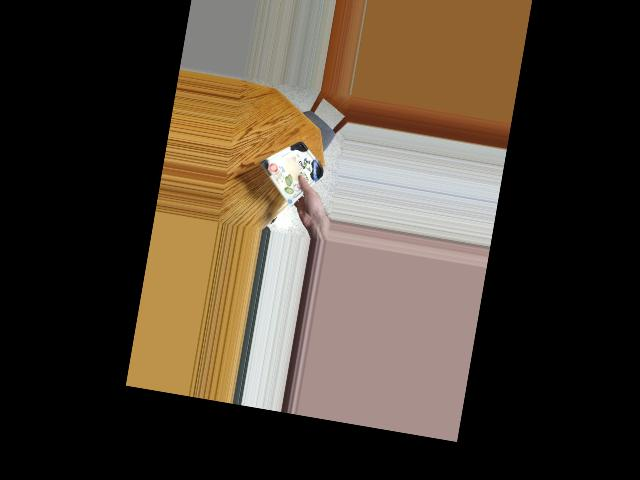cheese: (264, 142, 327, 198)
